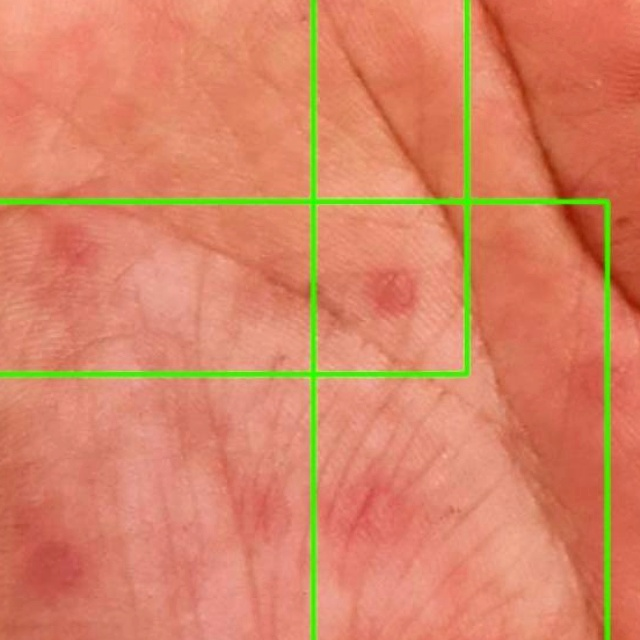Contact Dermatitis: (0, 201, 607, 639), (313, 0, 639, 639), (0, 0, 466, 374)
